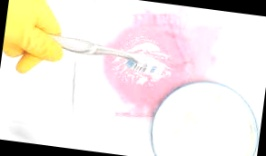wine: (122, 10, 221, 73), (95, 68, 158, 116), (101, 27, 133, 48), (164, 65, 182, 86), (103, 63, 111, 72)
